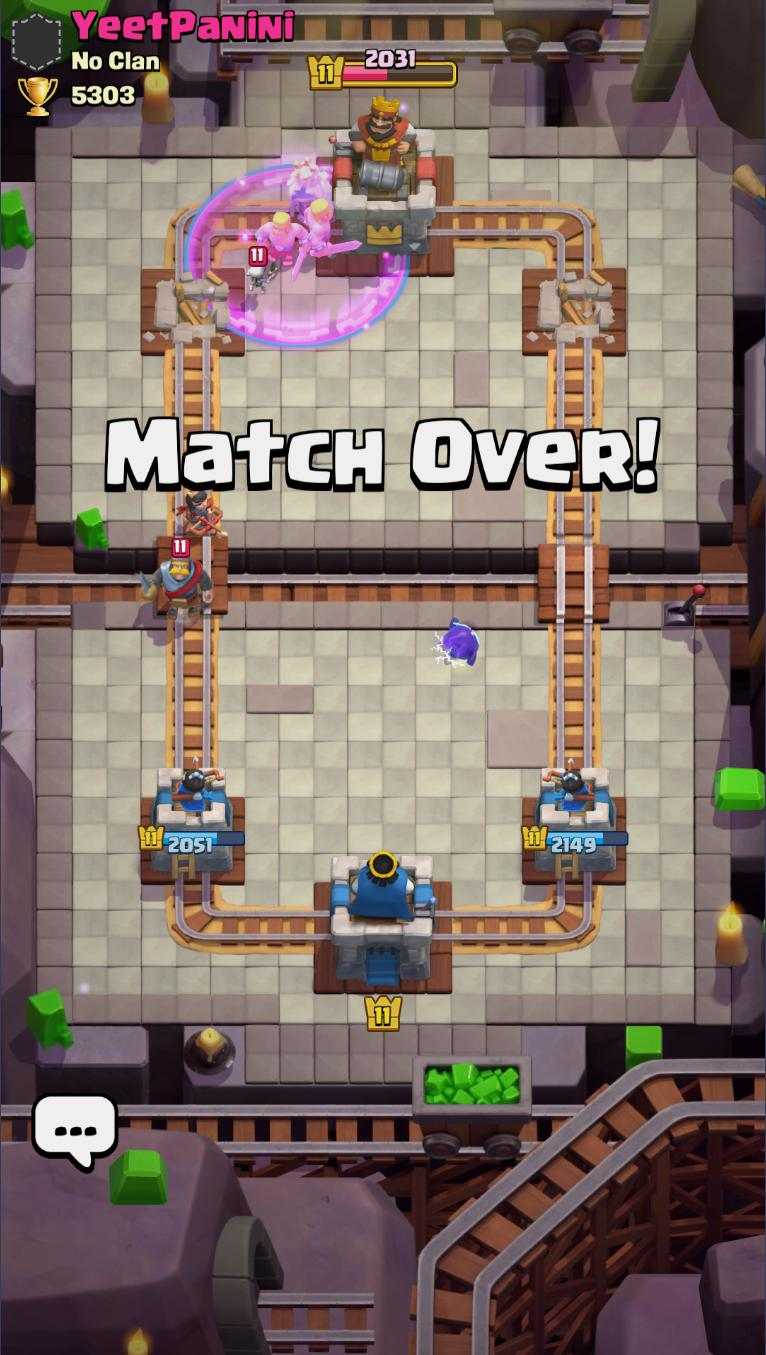EnemyTowerBrocken: (137, 262, 248, 360), (525, 265, 623, 352)
KingTower: (328, 93, 445, 261)
KingTowerHP: (308, 48, 458, 93)
Knight: (135, 538, 215, 617)
MatchOver: (106, 418, 661, 495)
MyBarbarian: (252, 208, 311, 278), (301, 195, 360, 265)
MyElectroSpirit: (442, 616, 482, 669)
MyKingTower: (330, 849, 437, 987)
MyPrincessTower: (519, 766, 629, 878), (136, 767, 246, 879)
MyPrincessTowerHP: (139, 824, 247, 856), (523, 823, 631, 853)
MyRoyaleGhost: (283, 152, 334, 215)
Princess: (171, 488, 226, 537)
Rage: (174, 146, 408, 329)
Skeleton: (239, 246, 279, 299)
